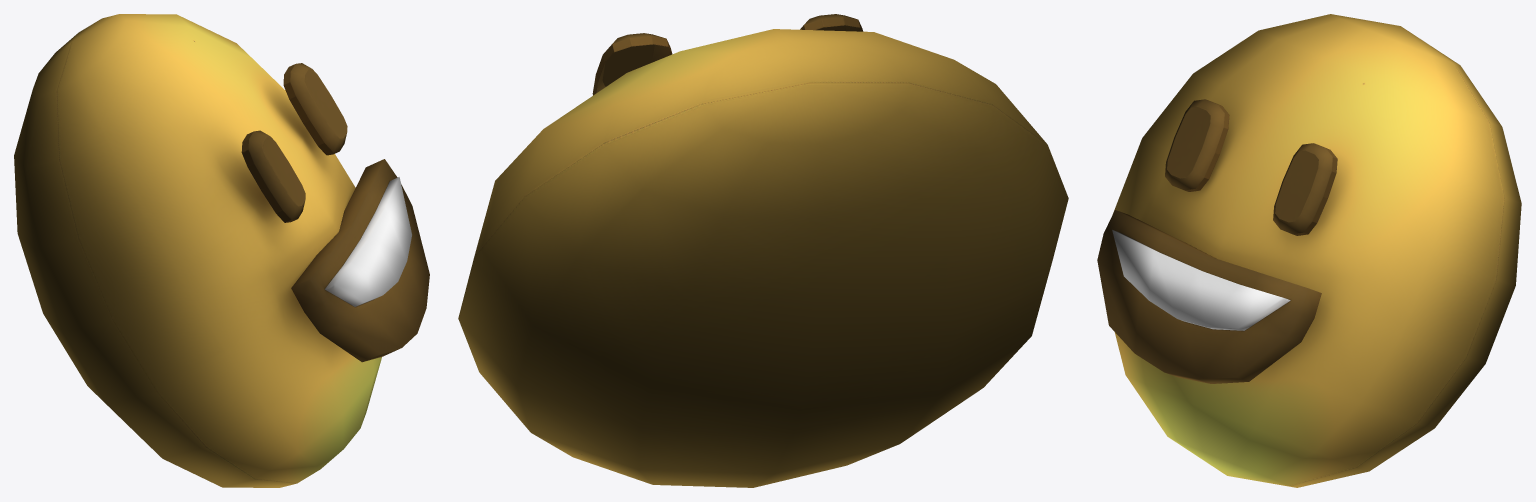
Rendered from Emoji_grinning_face.glb.
3 views of the same model, side by side, from view 1: azimuth 30°, elevation 25°; view 2: azimuth 150°, elevation 25°; view 3: azimuth 270°, elevation 25° (orthographic). The views are drawn at different scales.
Visible parts, largest first — view 1: Emoji; view 2: Emoji; view 3: Emoji.
Boxes of the visible parts, x1=… form: Emoji: x1=14, y1=14, x2=429, y2=487; Emoji: x1=458, y1=14, x2=1068, y2=487; Emoji: x1=1097, y1=14, x2=1521, y2=487.
Size of the model in its own units: 0.7027 by 0.715 by 0.6955.
1 material, 1 textured.
